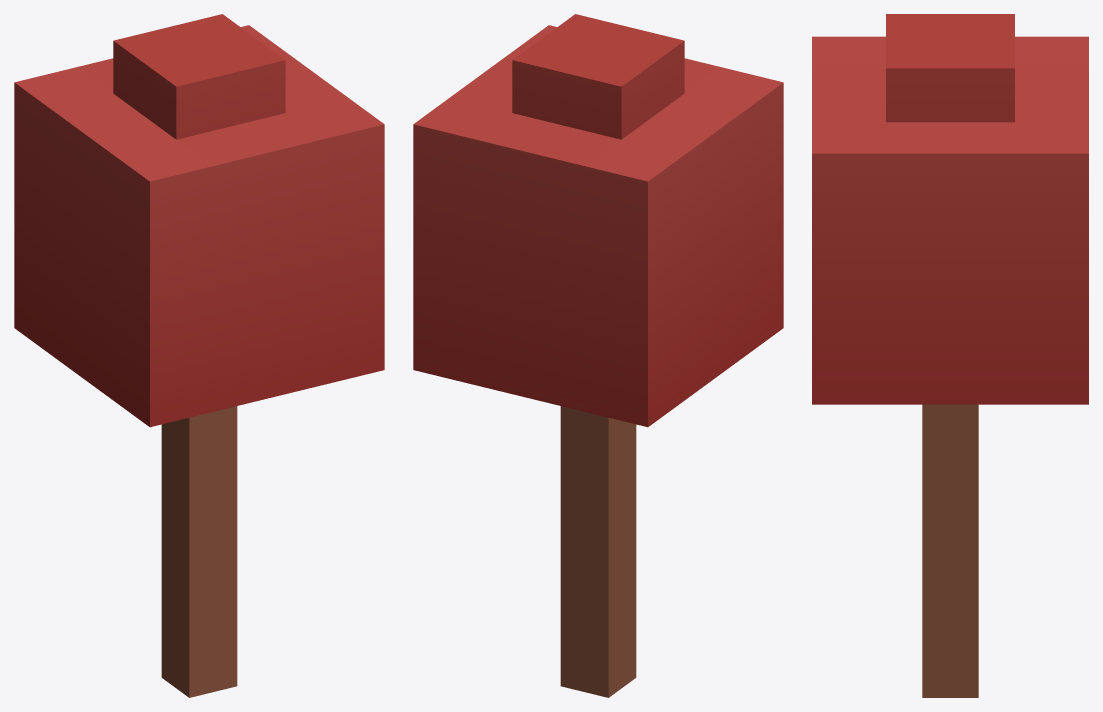
Rendered from Tree_46_gradient_red_pal.fbx.
3 views of the same model, side by side, from view 1: azimuth 30°, elevation 25°; view 2: azimuth 150°, elevation 25°; view 3: azimuth 270°, elevation 25° (orthographic). The views are drawn at different scales.
Parts seen in each view (by area): view 1: Tree_46_gradient_red_pal; view 2: Tree_46_gradient_red_pal; view 3: Tree_46_gradient_red_pal.
Boxes of the visible parts, bbox=[...] form: Tree_46_gradient_red_pal: bbox=[14, 14, 384, 697]; Tree_46_gradient_red_pal: bbox=[413, 14, 783, 697]; Tree_46_gradient_red_pal: bbox=[812, 14, 1088, 697].
Bounding box in the file's own units: 72.7 × 187 × 72.7.
